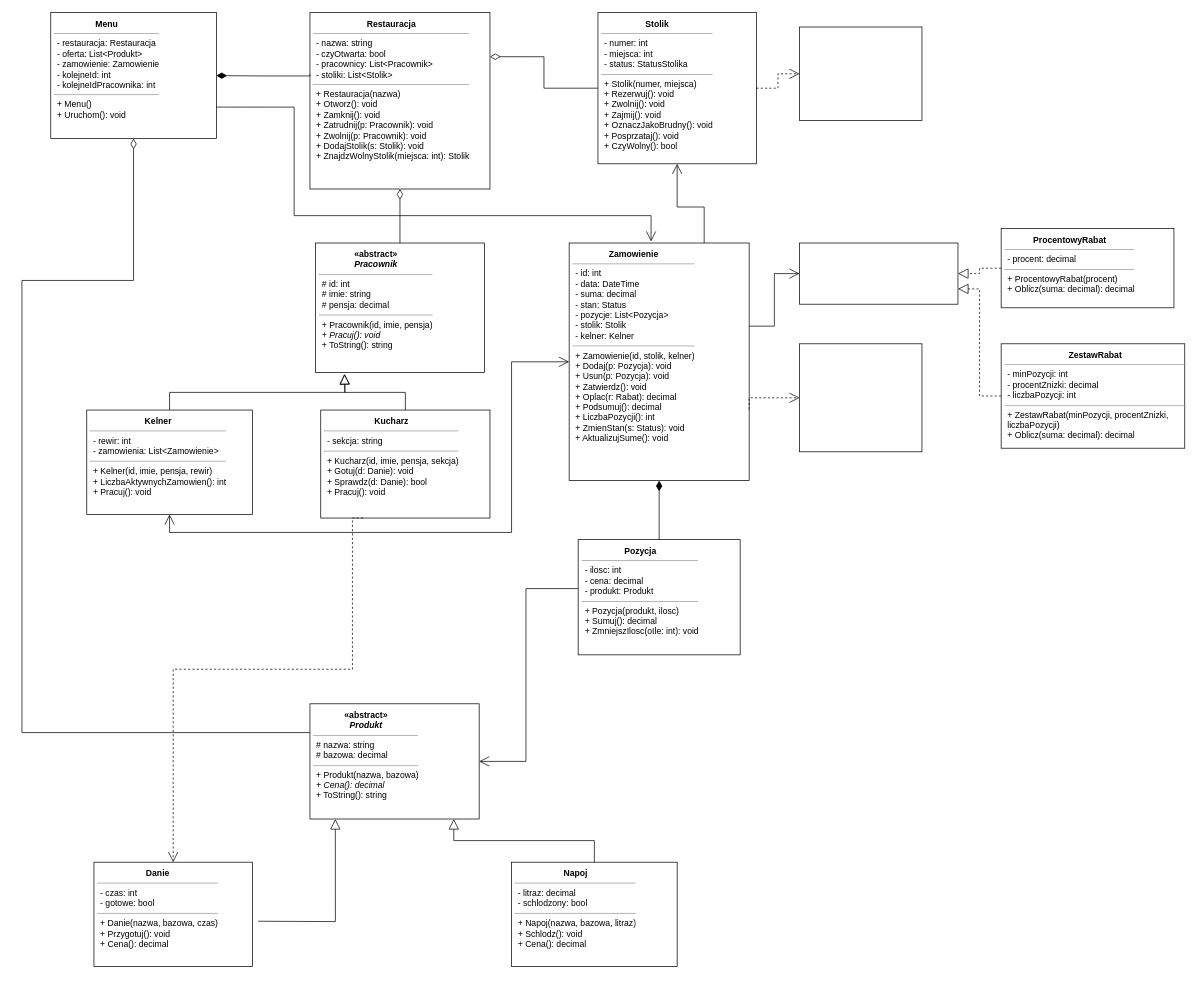
Some shapes in this 1197 by 983 pixel diagram are drawn without their labels. The shapes that lost their labels are listed below. From the top down, each one's box as (x1, y1, x2, y2) in pixels, then its label:
(799, 26, 922, 121): «enum» StatusStolika Wolny Zajety Rezerwacja Brudny
(799, 242, 958, 304): «interface» Rabat + Oblicz(suma: decimal): decimal
(799, 343, 922, 452): «enum» Status Nowe Przygotowanie Gotowe Podano Zakonczone
